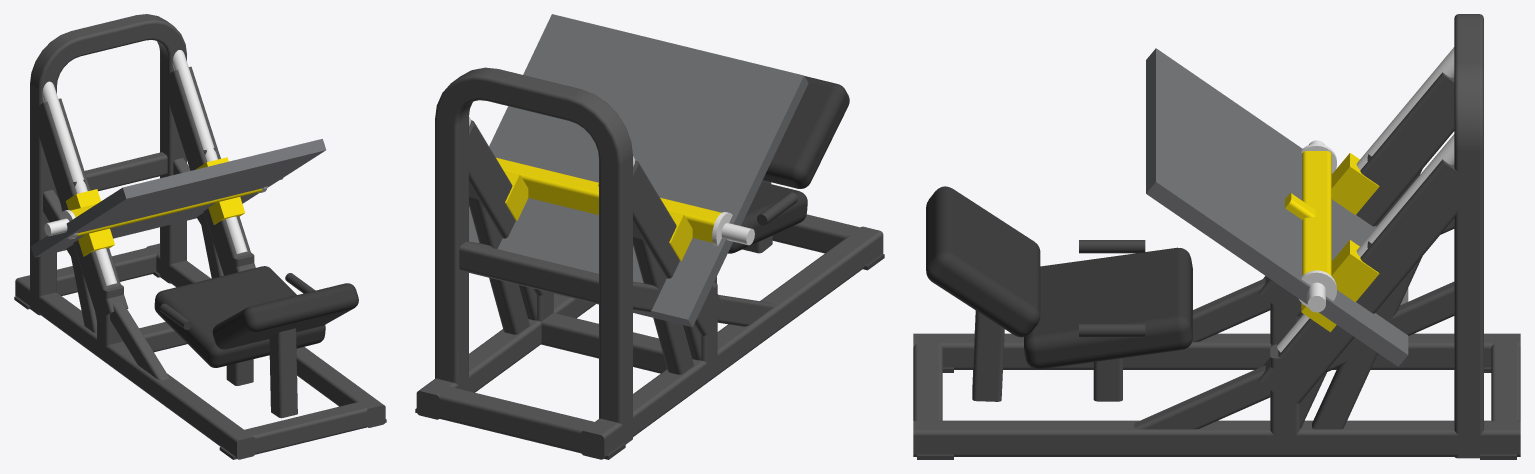
3 renders of one model, left to right at view 1: azimuth 30°, elevation 25°; view 2: azimuth 150°, elevation 25°; view 3: azimuth 270°, elevation 25°, orthographic. The views are drawn at different scales.
Parts seen in each view (by area): view 1: base, rear_arch_tube, foot_plate, rail_beam (×2), seat_pad, frame, backrest_pad, rail (×2), backrest, carriage_slider (×2), rear_tie, carriage_beam (+2 smaller); view 2: foot_plate, base, rear_arch_tube, frame, rail_beam (×2), backrest_pad, rear_tie, carriage_beam, seat_pad, carriage_slider (×2), plate_horn, side_handle; view 3: base, foot_plate, rail_beam (×2), frame, seat_pad, rear_arch_tube, backrest_pad, carriage_slider (×2), carriage_beam, rail (×2), backrest, side_handle (×2) (+2 smaller).
Part boxes in pixels (x1,y1,x2,y2): base: (14,243,386,459); rear_arch_tube: (30,14,186,315); foot_plate: (30,139,326,257); rail_beam (×2): (31,66,255,319); seat_pad: (154,266,325,367); frame: (43,147,254,380); backrest_pad: (212,283,358,349); rail (×2): (42,50,247,285); backrest: (269,328,297,418); carriage_slider (×2): (65,157,245,256); rear_tie: (57,152,167,197); carriage_beam: (71,188,262,236); foot_plate: (469,14,808,327); base: (415,214,884,459); rear_arch_tube: (435,67,632,444); frame: (469,197,774,374); rail_beam (×2): (460,120,723,335); backrest_pad: (763,76,849,188); rear_tie: (459,241,598,303); carriage_beam: (496,157,721,242); seat_pad: (728,182,807,253); carriage_slider (×2): (503,170,692,260); plate_horn: (712,212,754,245); side_handle: (757,192,797,225); base: (913,333,1520,459); foot_plate: (1146,48,1408,366); rail_beam (×2): (1258,72,1476,405); frame: (1134,154,1454,435); seat_pad: (1024,247,1192,369); rear_arch_tube: (1454,14,1483,458); backrest_pad: (926,186,1040,337); carriage_slider (×2): (1301,153,1379,332); carriage_beam: (1302,151,1331,275); rail (×2): (1277,47,1454,352); backrest: (972,310,1004,401); side_handle (×2): (1079,240,1145,337).
Size of the model in its own units: 1 by 1.1 by 1.65.
